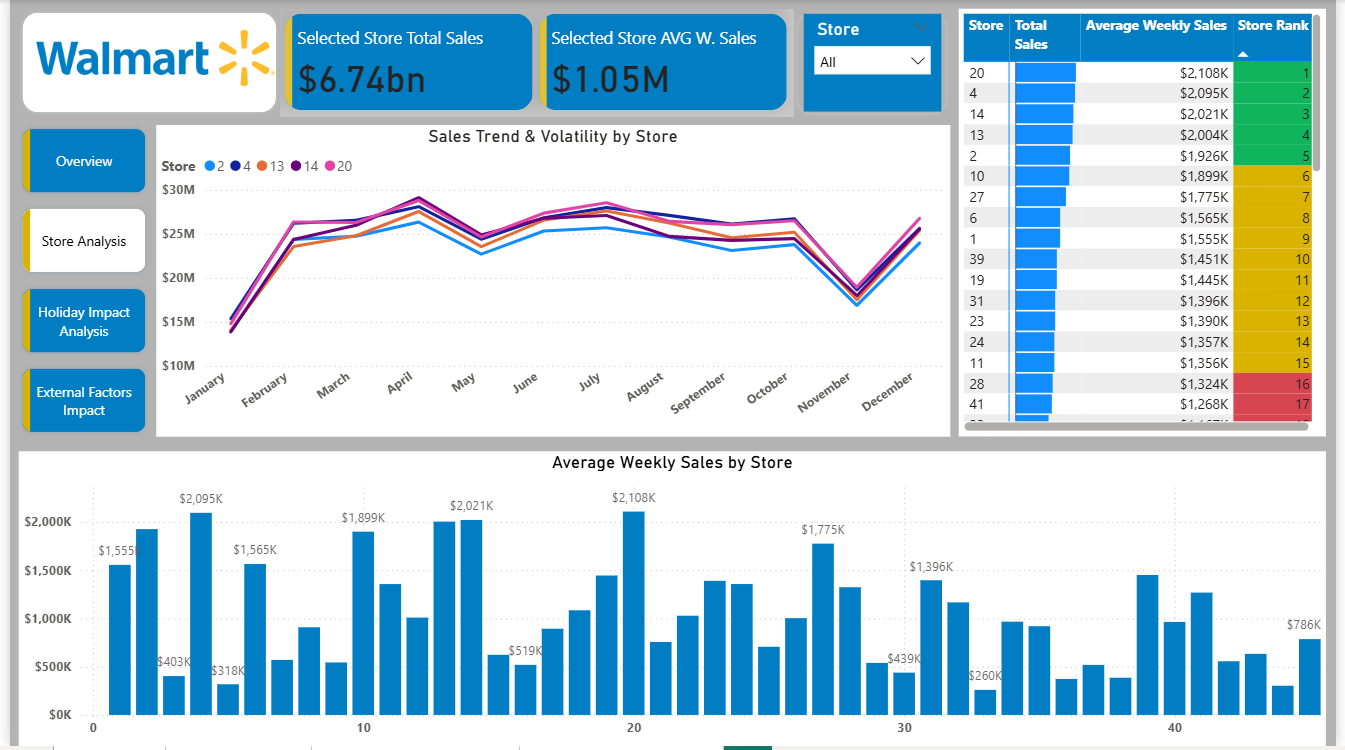

The page's visual inventory and layout, read from the dashboard file:
{"tool":"powerbi","page":{"name":"Store Analysis","canvas":[1280,720],"ordinal":1},"visuals":[{"type":"shape","box":[270.2,8.4,495.8,105],"z":0},{"type":"pivotTable","fields":{"Rows":["Walmart Sales.Store"],"Values":["Walmart Sales.Total Sales","Walmart Sales.Average Weekly Sales","Walmart Sales.Store Rank"]},"box":[915.7,8.4,354.7,412.6],"z":1000},{"type":"shape","box":[8.4,8.4,252.1,103.8],"z":2000},{"type":"shape","box":[756.4,9.7,150.8,103.8],"z":3000},{"type":"image","box":[20.5,0,240.1,112.2],"z":4000},{"type":"pageNavigator","box":[8.4,120.6,126.7,300.4],"z":5000},{"type":"columnChart","fields":{"Category":["Walmart Sales.Store"],"Y":["Walmart Sales.Average Weekly Sales"]},"box":[8.4,435.5,1261.9,284.7],"z":6000},{"type":"lineChart","title":"Sales Trend & Volatility by Store","fields":{"Category":["Date Table.Date.Variation.Date Hierarchy.Month"],"Y":["Walmart Sales.Total Sales"],"Series":["Walmart Sales.Store"]},"box":[141.2,120.6,766.1,300.4],"z":7000},{"type":"slicer","fields":{"Values":["Walmart Sales.Store"]},"box":[766.1,13.3,132.7,94.1],"z":8000},{"type":"cardVisual","fields":{"Data":["Walmart Sales.Total Sales","Walmart Sales.Average Weekly Sales"]},"box":[260.6,8.4,495.8,103.8],"z":9000}]}

Visuals, with their boxes in screenshot pixels (x1, y1, x2, y2), scaled from the page's 1280x720 canvas onto the 1345x750 screenshot:
shape: 284 9 805 118
pivotTable - Walmart Sales.Store x Walmart Sales.Total Sales: 962 9 1335 439
shape: 9 9 274 117
shape: 795 10 953 118
image: 22 0 274 117
pageNavigator: 9 126 142 439
columnChart - Walmart Sales.Store x Walmart Sales.Average Weekly Sales: 9 454 1335 749
"Sales Trend & Volatility by Store" lineChart: 148 126 953 439
slicer - Walmart Sales.Store: 805 14 944 112
cardVisual - Walmart Sales.Total Sales x Walmart Sales.Average Weekly Sales: 274 9 795 117
